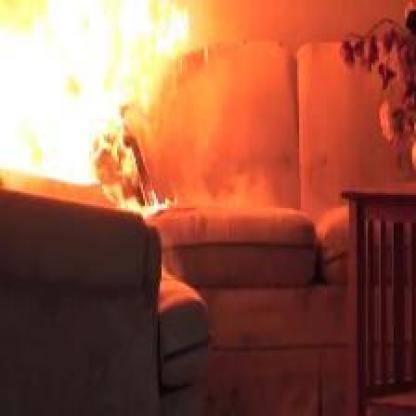fire: (0, 0, 209, 217)
